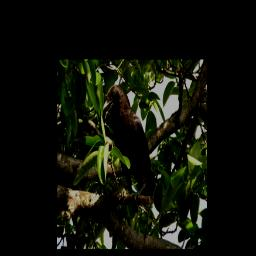Crow: (101, 82, 155, 206)
